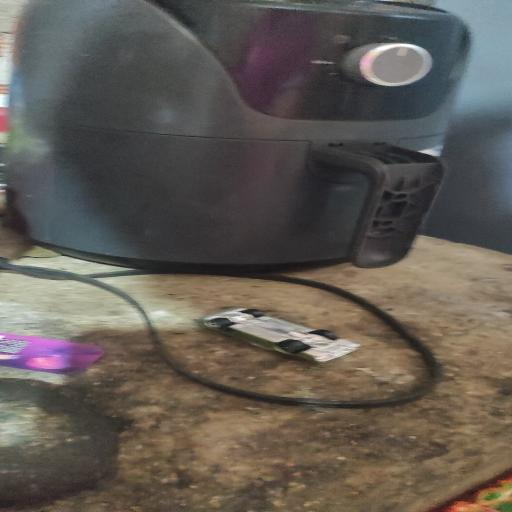Carrito: (198, 308, 360, 362)
